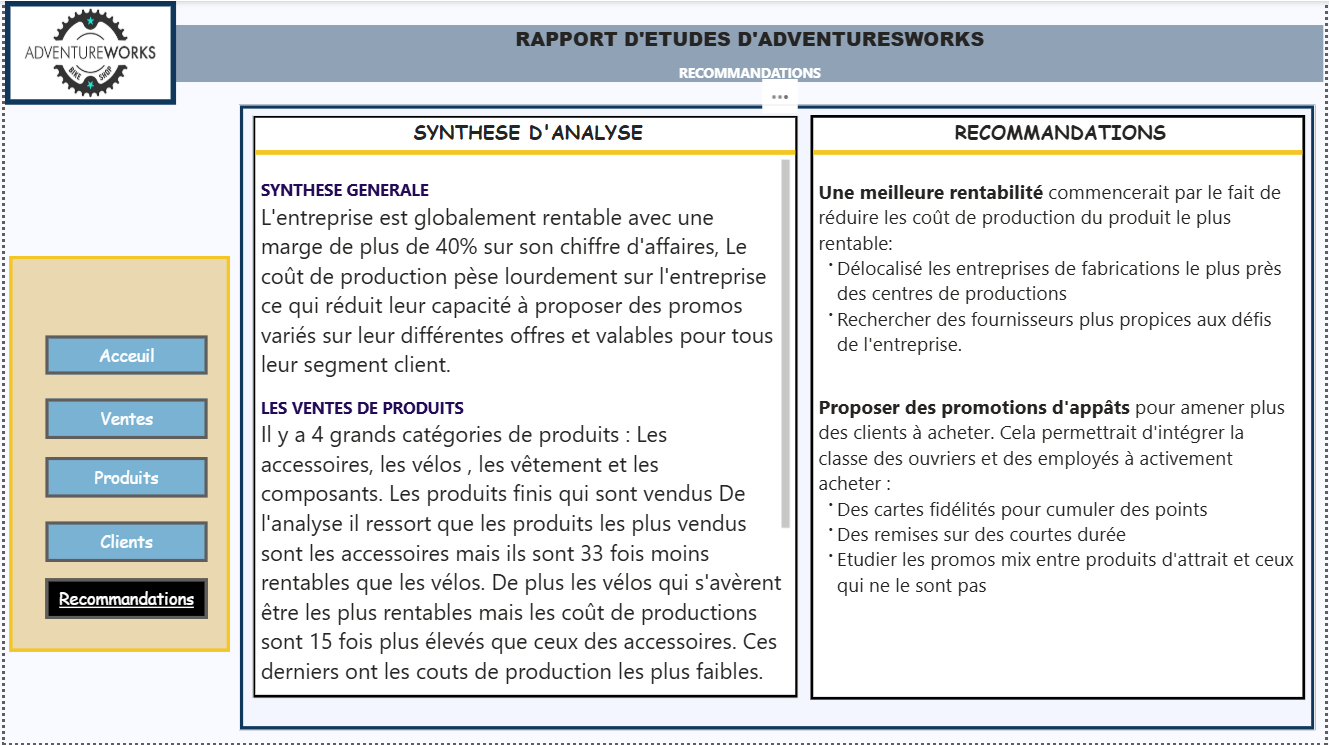

The dashboard page shown, as its layout file describes it:
{"tool":"powerbi","page":{"name":"Recommandations","canvas":[1280,720],"ordinal":9},"visuals":[{"type":"image","box":[0,0,165.9,100.4],"z":0},{"type":"shape","box":[226.7,100.4,1044.4,607.2],"z":0,"group":"g1"},{"type":"textbox","title":"RAPPORT D''ETUDES D''ADVENTURESWORKS ","box":[165.9,23.3,1113.5,55.3],"z":1000},{"type":"shape","box":[4.1,247.6,213.7,383.8],"z":2000,"group":"g2"},{"type":"group","id":"g1","title":"Groupe 1","box":[226.7,100.4,1044.4,607.2],"z":3000},{"type":"group","id":"g2","title":"Groupe 2","box":[4.1,247.6,213.7,383.8],"z":3001},{"type":"textbox","title":"SYNTHESE D''ANALYSE","box":[240.2,111.1,529.5,565.1],"z":4000,"group":"g1"},{"type":"actionButton","box":[38.8,386.4,157.3,39.3],"z":4000,"group":"g2"},{"type":"actionButton","box":[38.8,325.3,157.3,37.8],"z":5000,"group":"g2"},{"type":"textbox","title":"RECOMMANDATIONS ","box":[781.9,111.2,479.7,567.3],"z":6000,"group":"g1"},{"type":"actionButton","box":[38.8,443.2,157.3,39.3],"z":6000,"group":"g2"},{"type":"actionButton","box":[38.8,505.8,157.3,39.3],"z":7000,"group":"g2"},{"type":"actionButton","box":[38.8,561.1,157.3,39.3],"z":8000,"group":"g2"}]}

Visuals, with their boxes in screenshot pixels (x1, y1, x2, y2), scaled from the page's 1280x720 canvas onto the 1329x745 screenshot:
image: 0/0/172/104
shape: 235/104/1320/732
"RAPPORT D''ETUDES D''ADVENTURESWORKS " textbox: 172/24/1328/81
shape: 4/256/226/653
"Groupe 1" group: 235/104/1320/732
"Groupe 2" group: 4/256/226/653
"SYNTHESE D''ANALYSE" textbox: 249/115/799/700
actionButton: 40/400/204/440
actionButton: 40/337/204/376
"RECOMMANDATIONS " textbox: 812/115/1310/702
actionButton: 40/459/204/499
actionButton: 40/523/204/564
actionButton: 40/581/204/621
